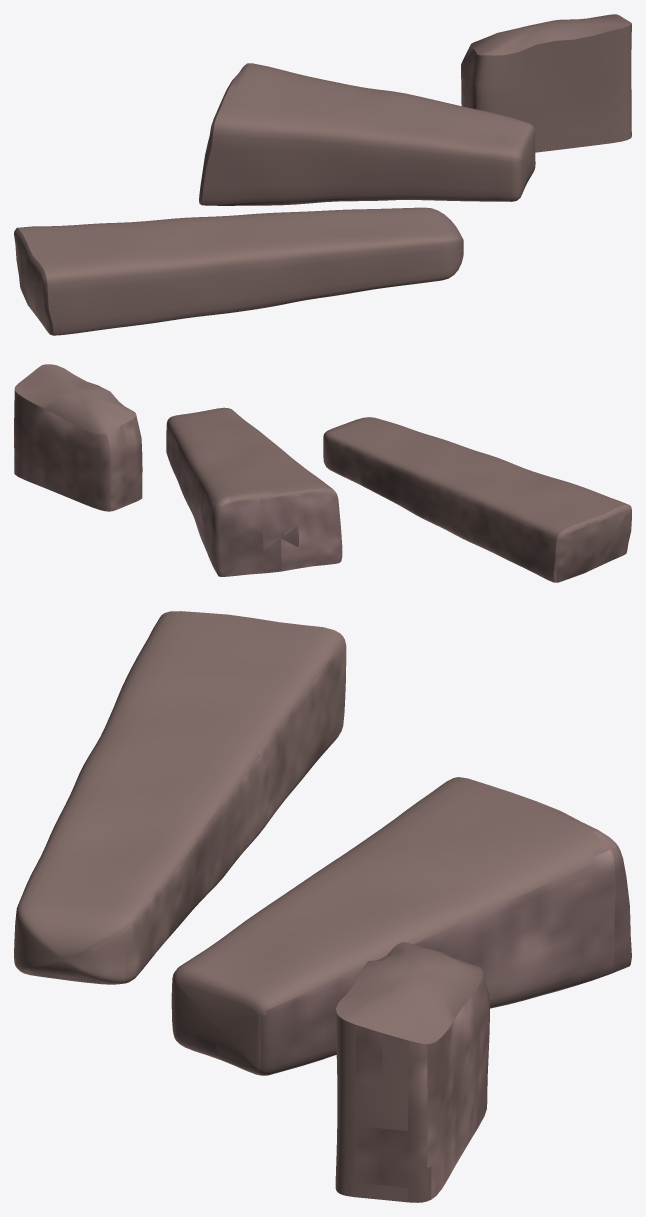
File: TarHenge01.glb
The picture shows the model from 3 angles, top to bottom: view 1: azimuth 30°, elevation 25°; view 2: azimuth 150°, elevation 25°; view 3: azimuth 270°, elevation 25°; orthographic projection. The views are drawn at different scales.
Visible parts, largest first — view 1: TarHenge01; view 2: TarHenge01; view 3: TarHenge01.
Boxes of the visible parts, x1,y1,x2,y2 form: TarHenge01: (14,14,631,335); TarHenge01: (14,364,631,582); TarHenge01: (14,611,631,1202).
Bounding box in the file's own units: 5.15 × 0.8489 × 2.69.
Materials: 2 (1 with a texture image).
